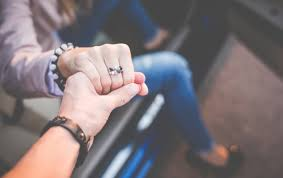hand: (51, 31, 162, 133)
